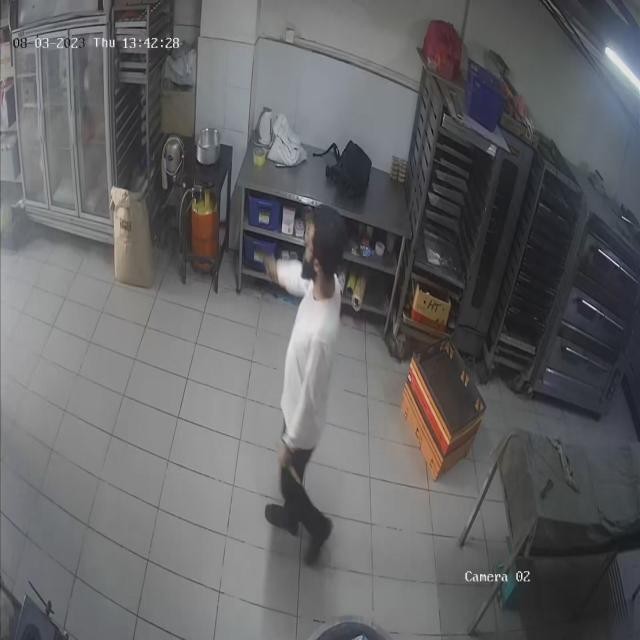Gun: (238, 226, 288, 281)
Knife: (278, 449, 318, 498)
